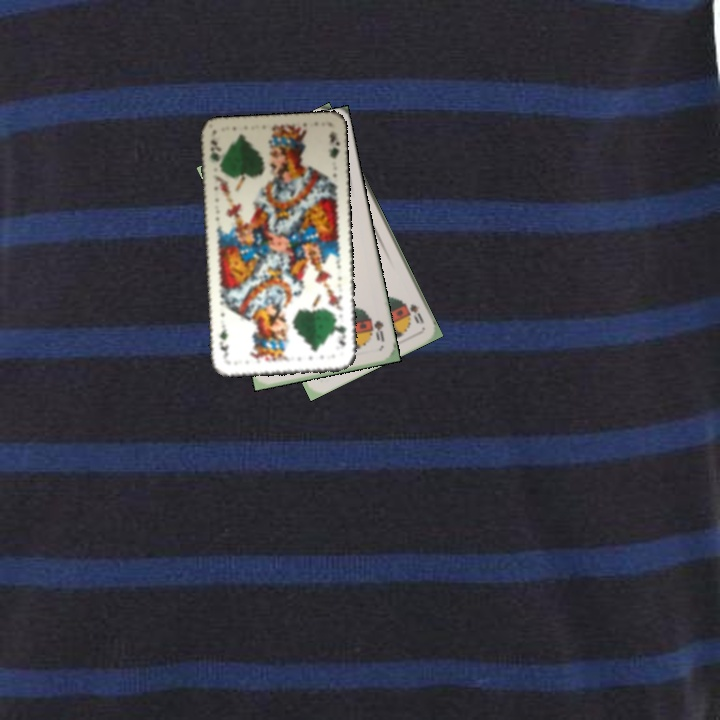GK: (331, 315, 349, 349), (206, 135, 222, 164)
SO: (401, 298, 427, 326), (366, 312, 387, 344)
